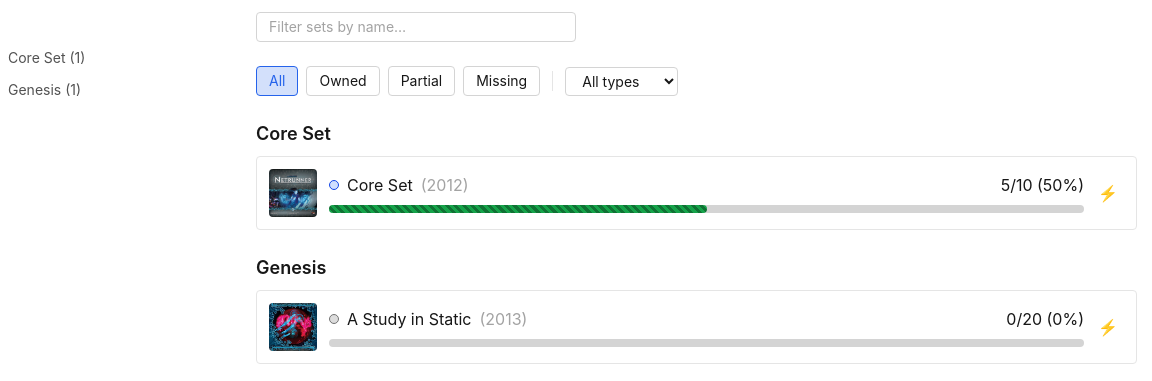
Scenario: SetProgressList › "All" restores every set after filtering
The image size is (1152, 381).
Click the button "Owned". click: (343, 81)
box: [306, 66, 380, 96]
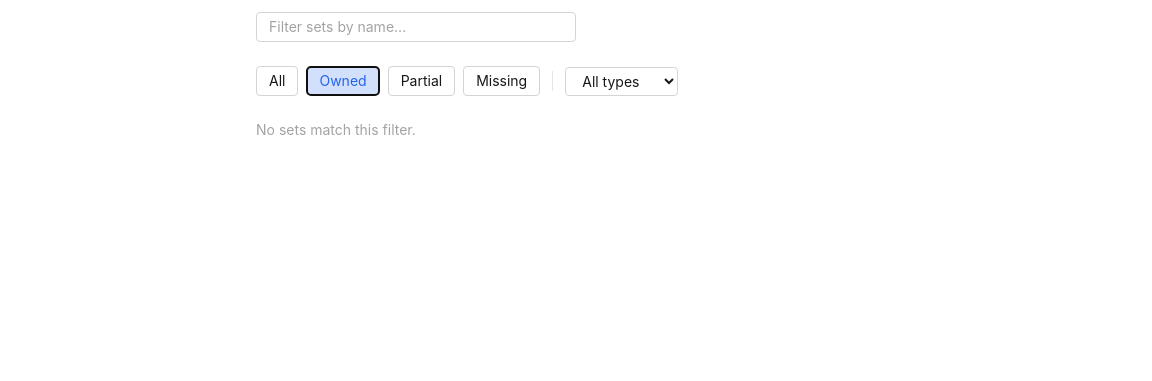
Click the button "All". click: (277, 81)
box: [256, 66, 298, 96]
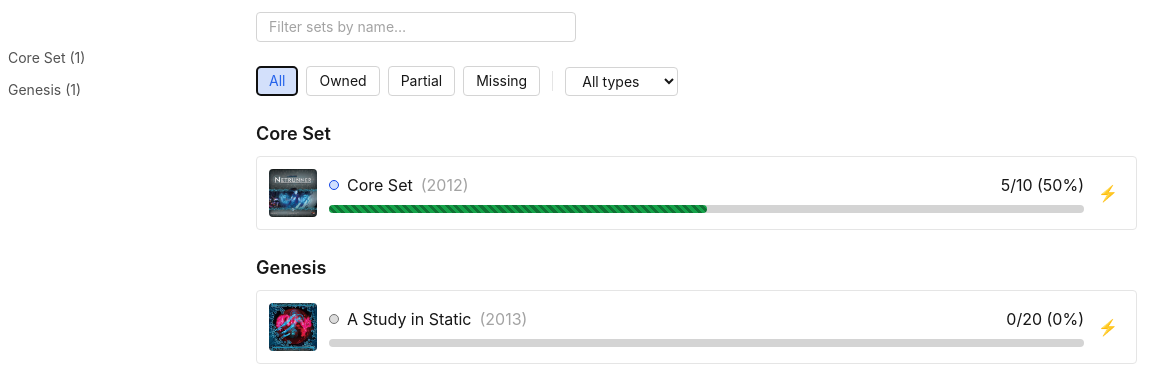
Expected: the text "Core Set" is shown, [347, 175, 413, 195]
Expected: the text "A Study in Static" is shown, [347, 309, 472, 329]
